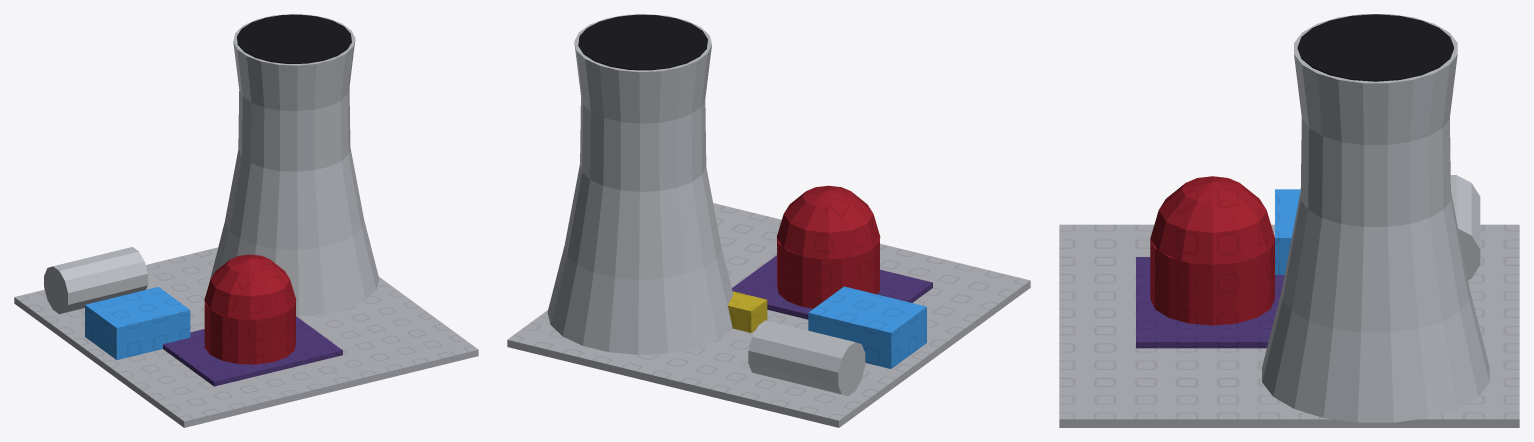
The model's file is Centrale_Nucleaire.glb.
3 views of the same model, side by side, from view 1: azimuth 30°, elevation 25°; view 2: azimuth 150°, elevation 25°; view 3: azimuth 270°, elevation 25° (orthographic). The views are drawn at different scales.
Parts seen in each view (by area): view 1: Centrale_Nucleaire; view 2: Centrale_Nucleaire; view 3: Centrale_Nucleaire.
Part boxes in pixels (left/top/right/bottom): Centrale_Nucleaire: left=14, top=14, right=478, bottom=427; Centrale_Nucleaire: left=507, top=14, right=1030, bottom=427; Centrale_Nucleaire: left=1059, top=14, right=1519, bottom=427.
Size of the model in its own units: 9.77 by 7.73 by 9.6.
Materials: 7 (5 with a texture image).
